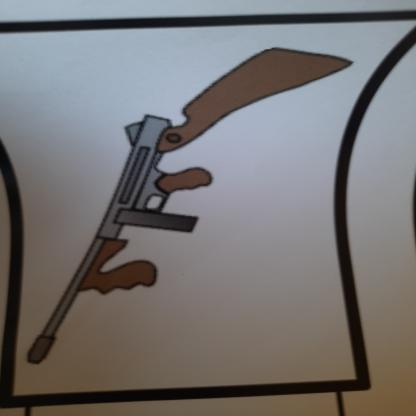Bootlegger: (21, 36, 361, 367)
